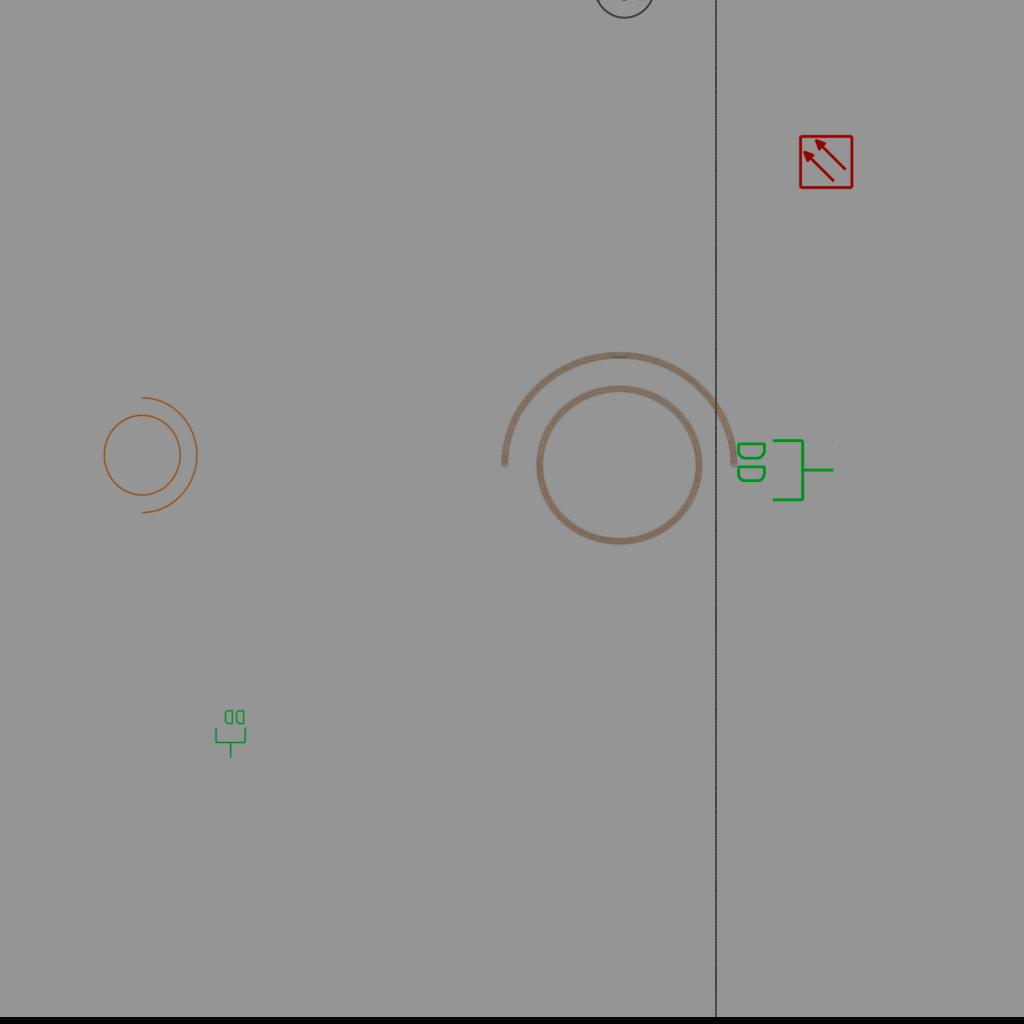Datenanschluss_zweifach: (733, 435, 836, 504), (214, 708, 248, 759)
RMO_Rauchmelder_optischer: (798, 134, 854, 190)
Scheinwerfer_fuer_Alarmbeleuchtung: (481, 343, 745, 568), (91, 386, 203, 518)
